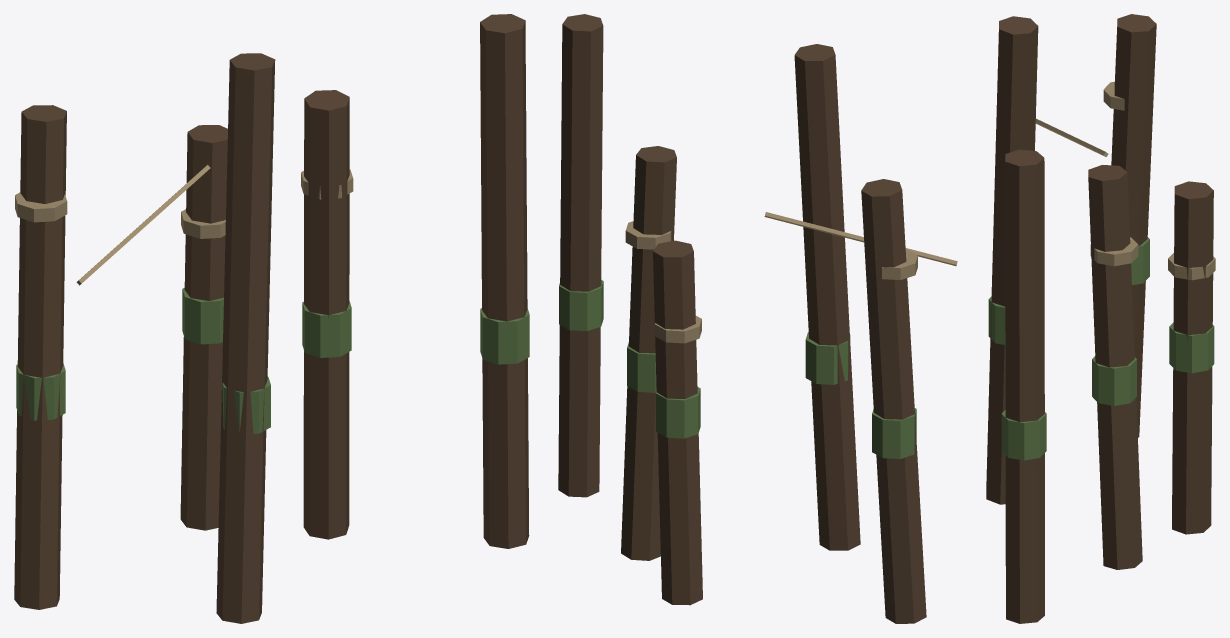
Rendered from K_Pilings.glb.
3 views of the same model, side by side, from view 1: azimuth 30°, elevation 25°; view 2: azimuth 150°, elevation 25°; view 3: azimuth 270°, elevation 25° (orthographic). The views are drawn at different scales.
Visible parts, largest first — view 1: K_Pilings_Structure, K_Pilings_Props; view 2: K_Pilings_Structure, K_Pilings_Props; view 3: K_Pilings_Structure, K_Pilings_Props.
Part boxes in pixels (x1,y1,x2,y2): K_Pilings_Structure: (14,14,529,623); K_Pilings_Props: (15,165,529,433); K_Pilings_Structure: (558,14,926,623); K_Pilings_Props: (559,212,957,458); K_Pilings_Structure: (986,14,1213,623); K_Pilings_Props: (988,81,1215,460).
Size of the model in its own units: 3.6 by 4.11 by 1.78.
